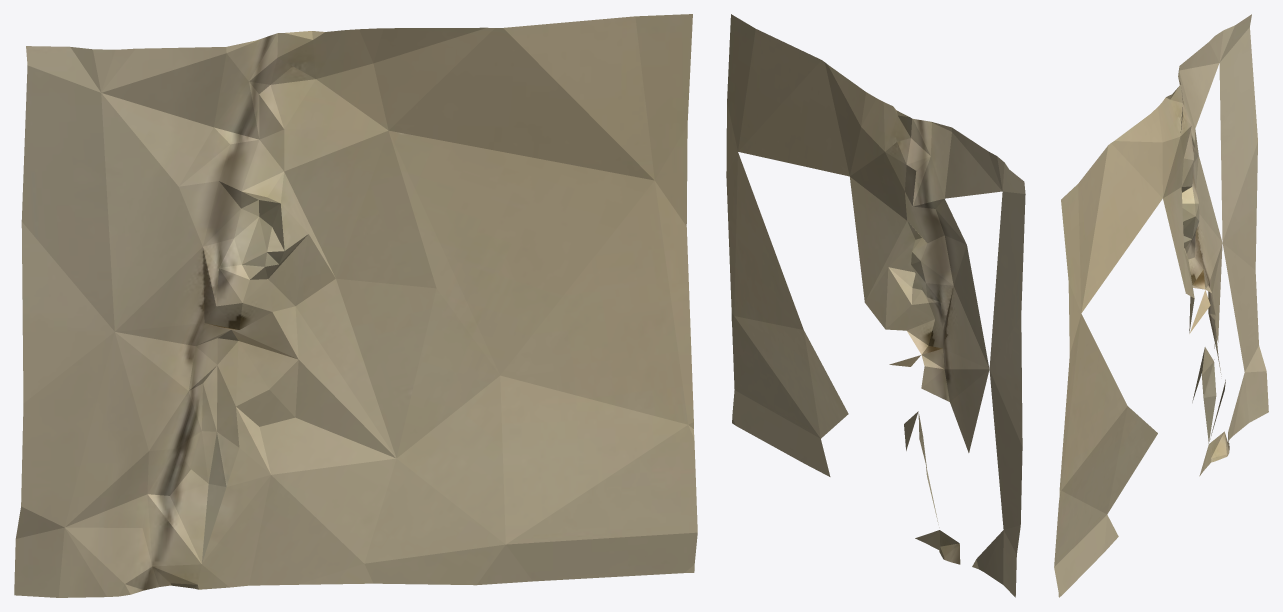
3 views of the same model, side by side, from view 1: azimuth 30°, elevation 25°; view 2: azimuth 150°, elevation 25°; view 3: azimuth 270°, elevation 25° (orthographic). The views are drawn at different scales.
Bounding box in the file's own units: 0.8373 × 0.8374 × 0.4093.
Materials: 3 (3 with a texture image).
